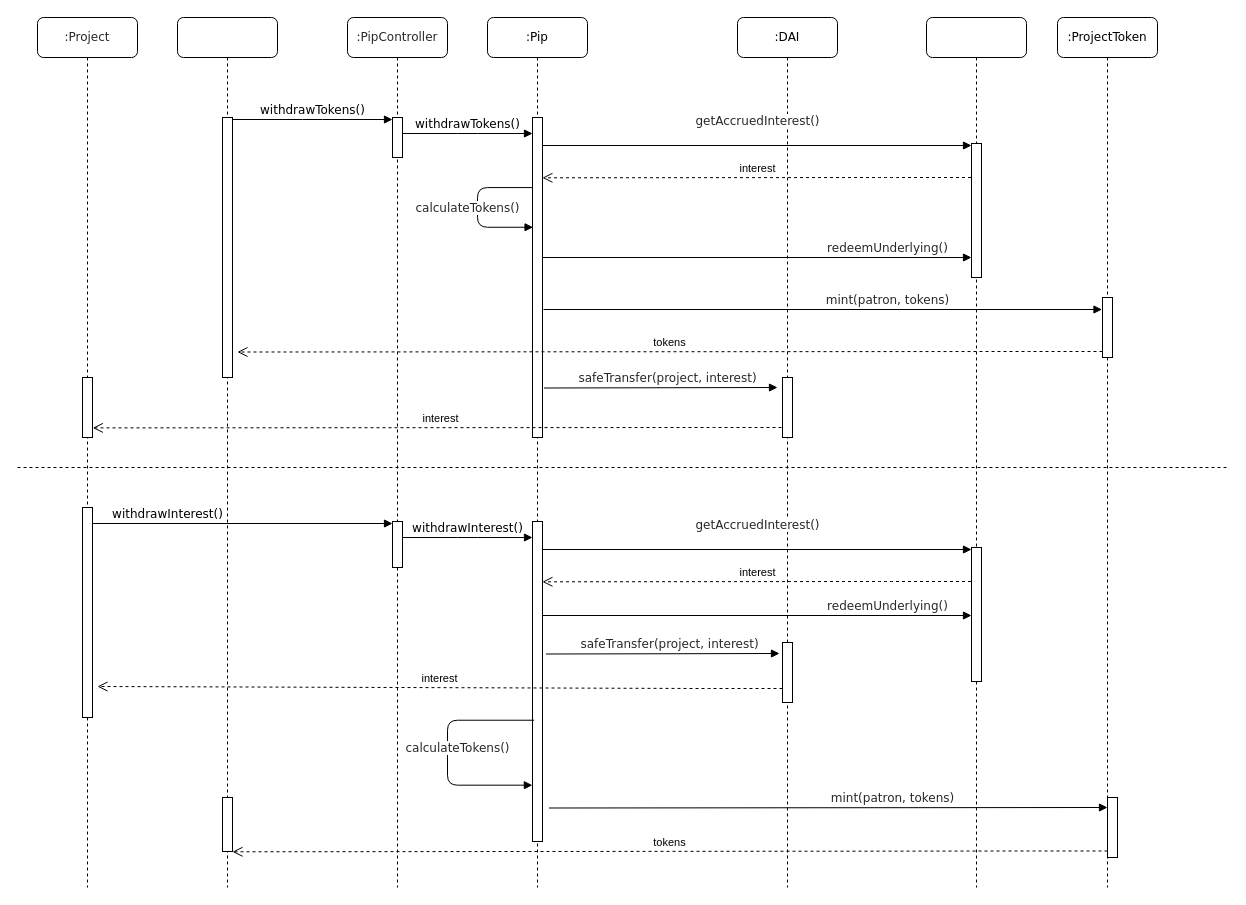
The diagram is 1246 pixels wide and 905 high, and some of its shapes have lost their labels. Each missing label, with the box of its shape:
:cDAI: (926, 16, 1026, 888)
:Patron: (176, 16, 278, 888)
